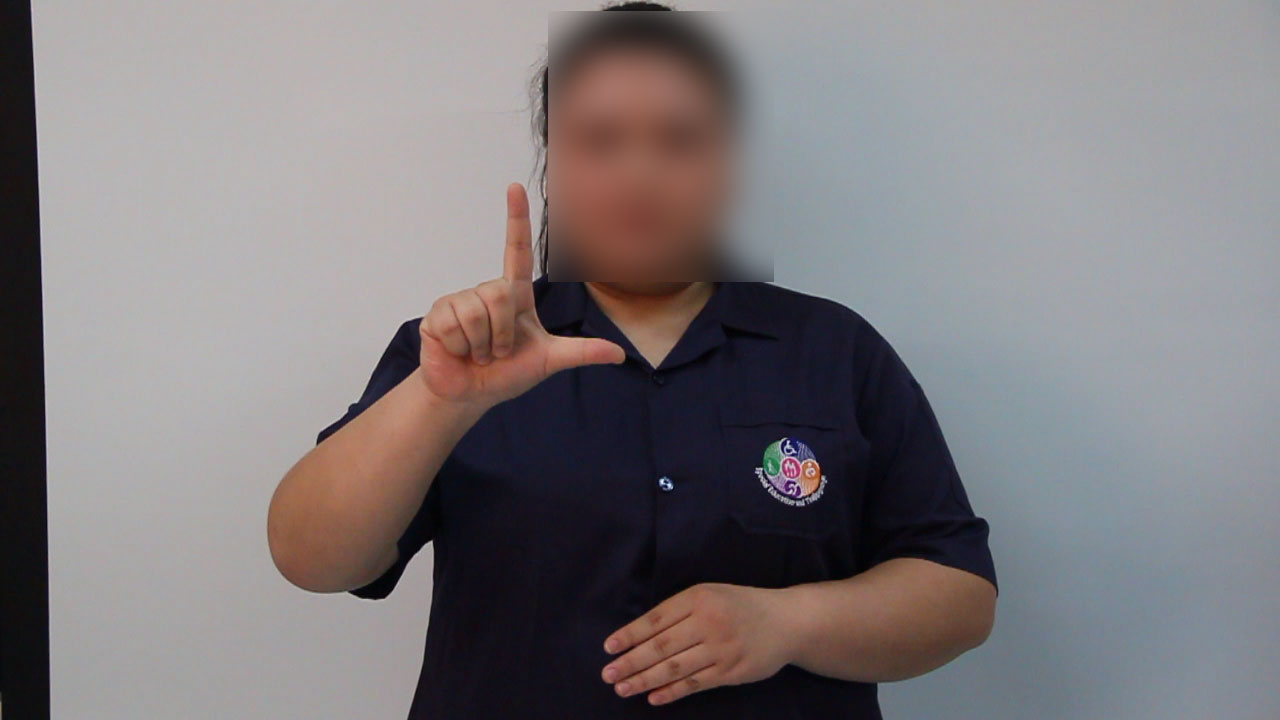lor: (394, 173, 645, 418)
